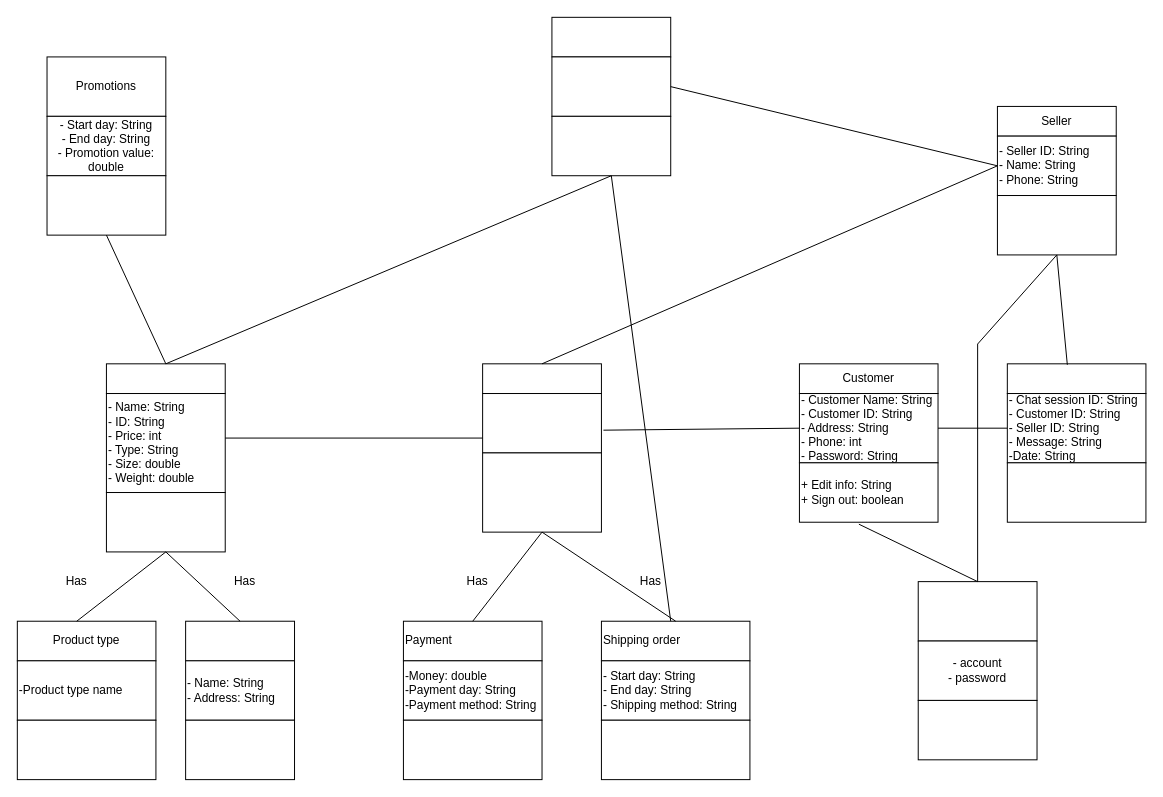
The diagram is 1163 pixels wide and 797 high, and some of its shapes have lost their labels. Each missing label, with the centre of its shape:
"- Product ID: String - Numbers: int" belongs at (x=541, y=423).
"- Storage ID: String - Product: Product - Number of Products: int" belongs at (x=611, y=86).
"Chat session" belongs at (x=1076, y=378).
"Products" belongs at (x=165, y=378).
"Provider" belongs at (x=240, y=640).
"Shopping carts" belongs at (x=541, y=378).
"Sign up" belongs at (x=977, y=611).
"Storage" belongs at (x=611, y=36).
